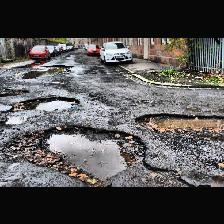pothole: (9, 122, 149, 186), (134, 111, 224, 133), (7, 96, 80, 113), (0, 87, 28, 97), (20, 68, 43, 80), (43, 64, 73, 72)
